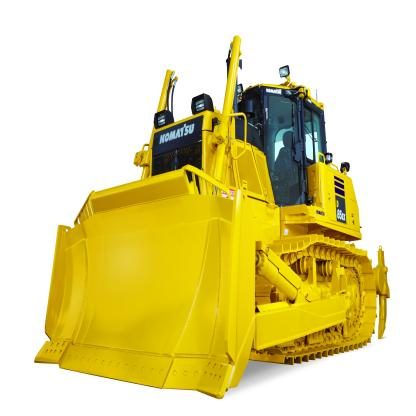bull_dozer/loader/grader: (36, 31, 408, 404)
